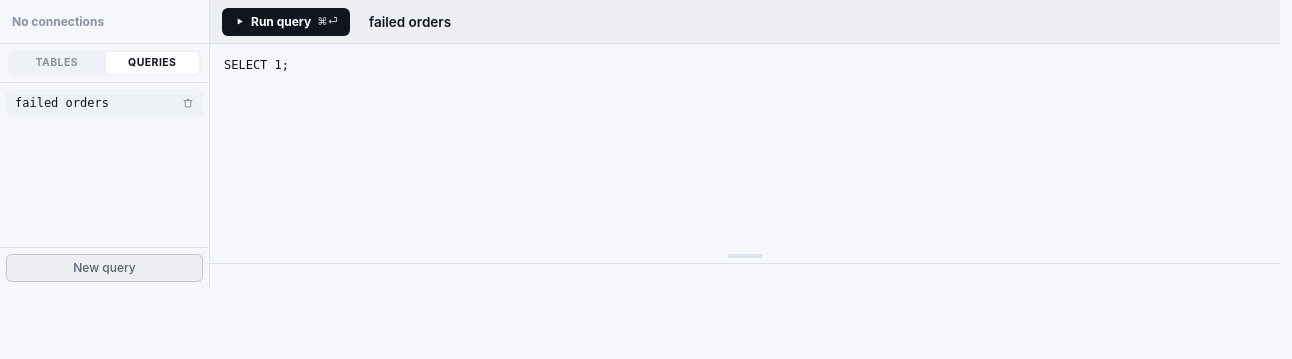
Scenario: QueryTab › keeps rollback failure visible after the statement has changed
The width and height of the screenshot is (1292, 359).
Click the button "Run query ⌘⏎" at [286, 22], box [222, 8, 350, 36]
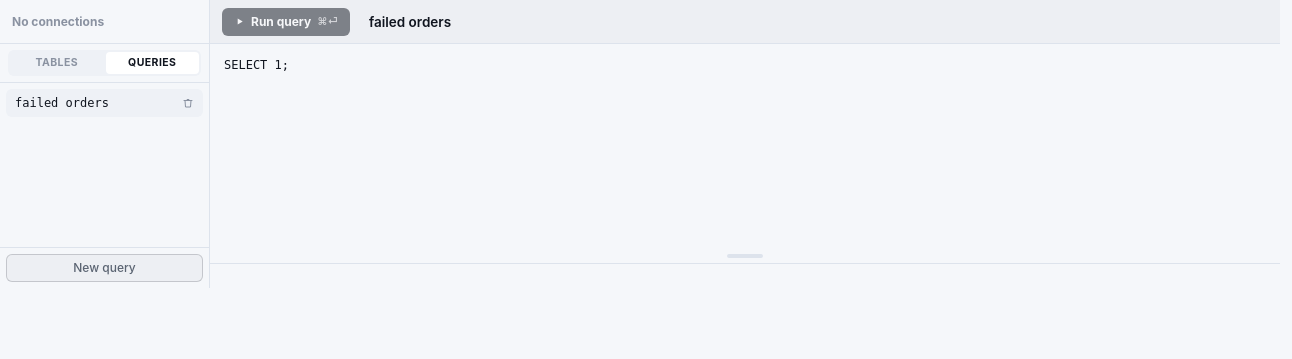
Replace the text in the text box named "SQL" with "SELECT 2;" at [745, 154], box [210, 44, 1280, 263]
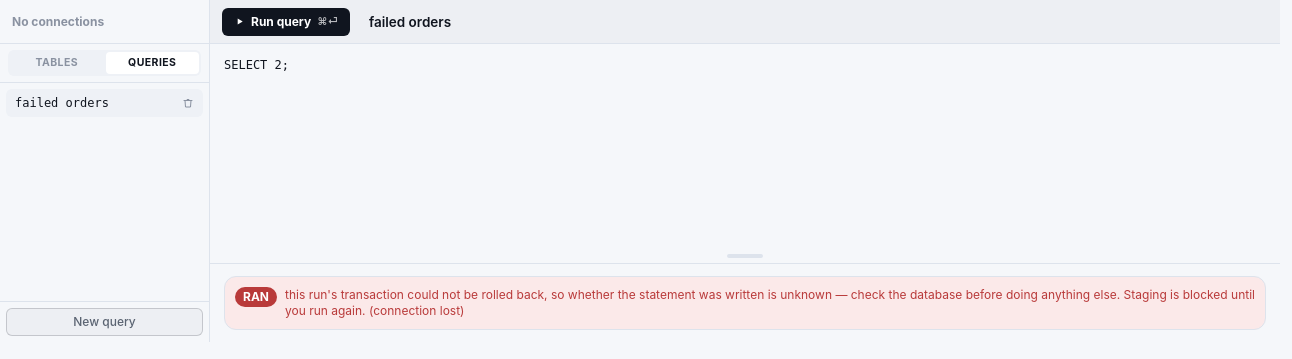
Expected: the text "could not be rolled back" is shown, [285, 287, 1255, 318]
